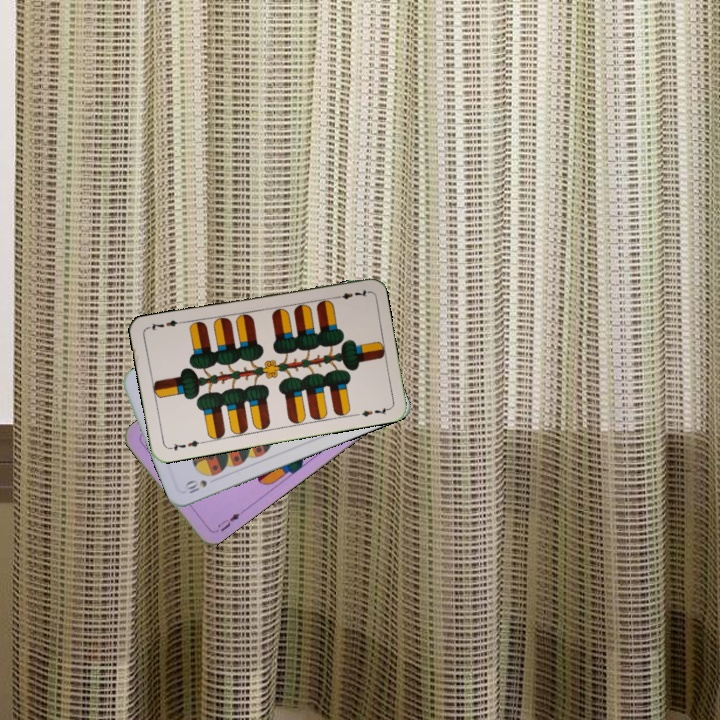E7: (165, 436, 206, 453), (330, 285, 370, 302)
EU: (209, 509, 242, 535)
S10: (180, 476, 210, 496)
